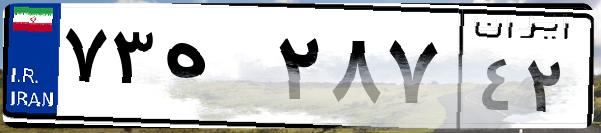2: (270, 28, 330, 110), (525, 38, 570, 115)
3: (110, 28, 158, 98)
4: (475, 38, 525, 113)
7: (385, 28, 445, 110), (57, 26, 110, 100)
8: (330, 28, 385, 110)
ه: (158, 20, 270, 120)
